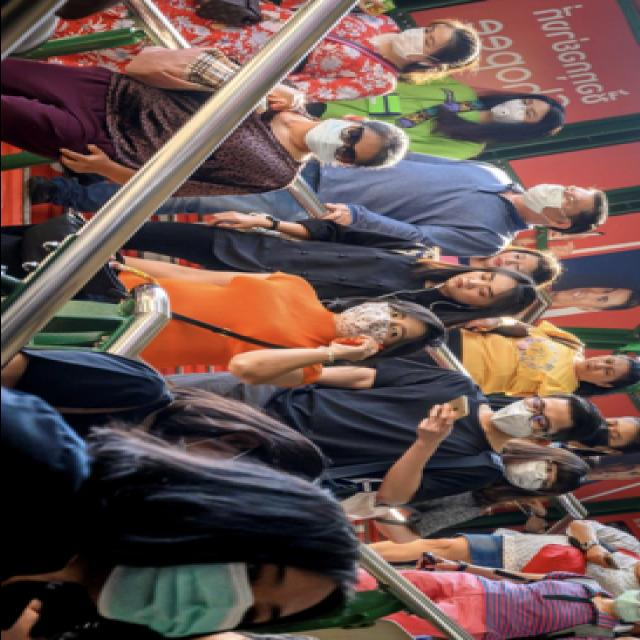mask: (96, 562, 293, 638), (335, 301, 410, 347), (302, 119, 368, 164), (486, 398, 556, 440), (520, 182, 584, 218), (389, 24, 441, 61), (504, 459, 558, 493), (577, 416, 626, 450), (488, 96, 542, 125), (612, 589, 640, 624)
no_mask: (446, 268, 500, 306), (577, 355, 621, 384), (486, 252, 530, 274)
